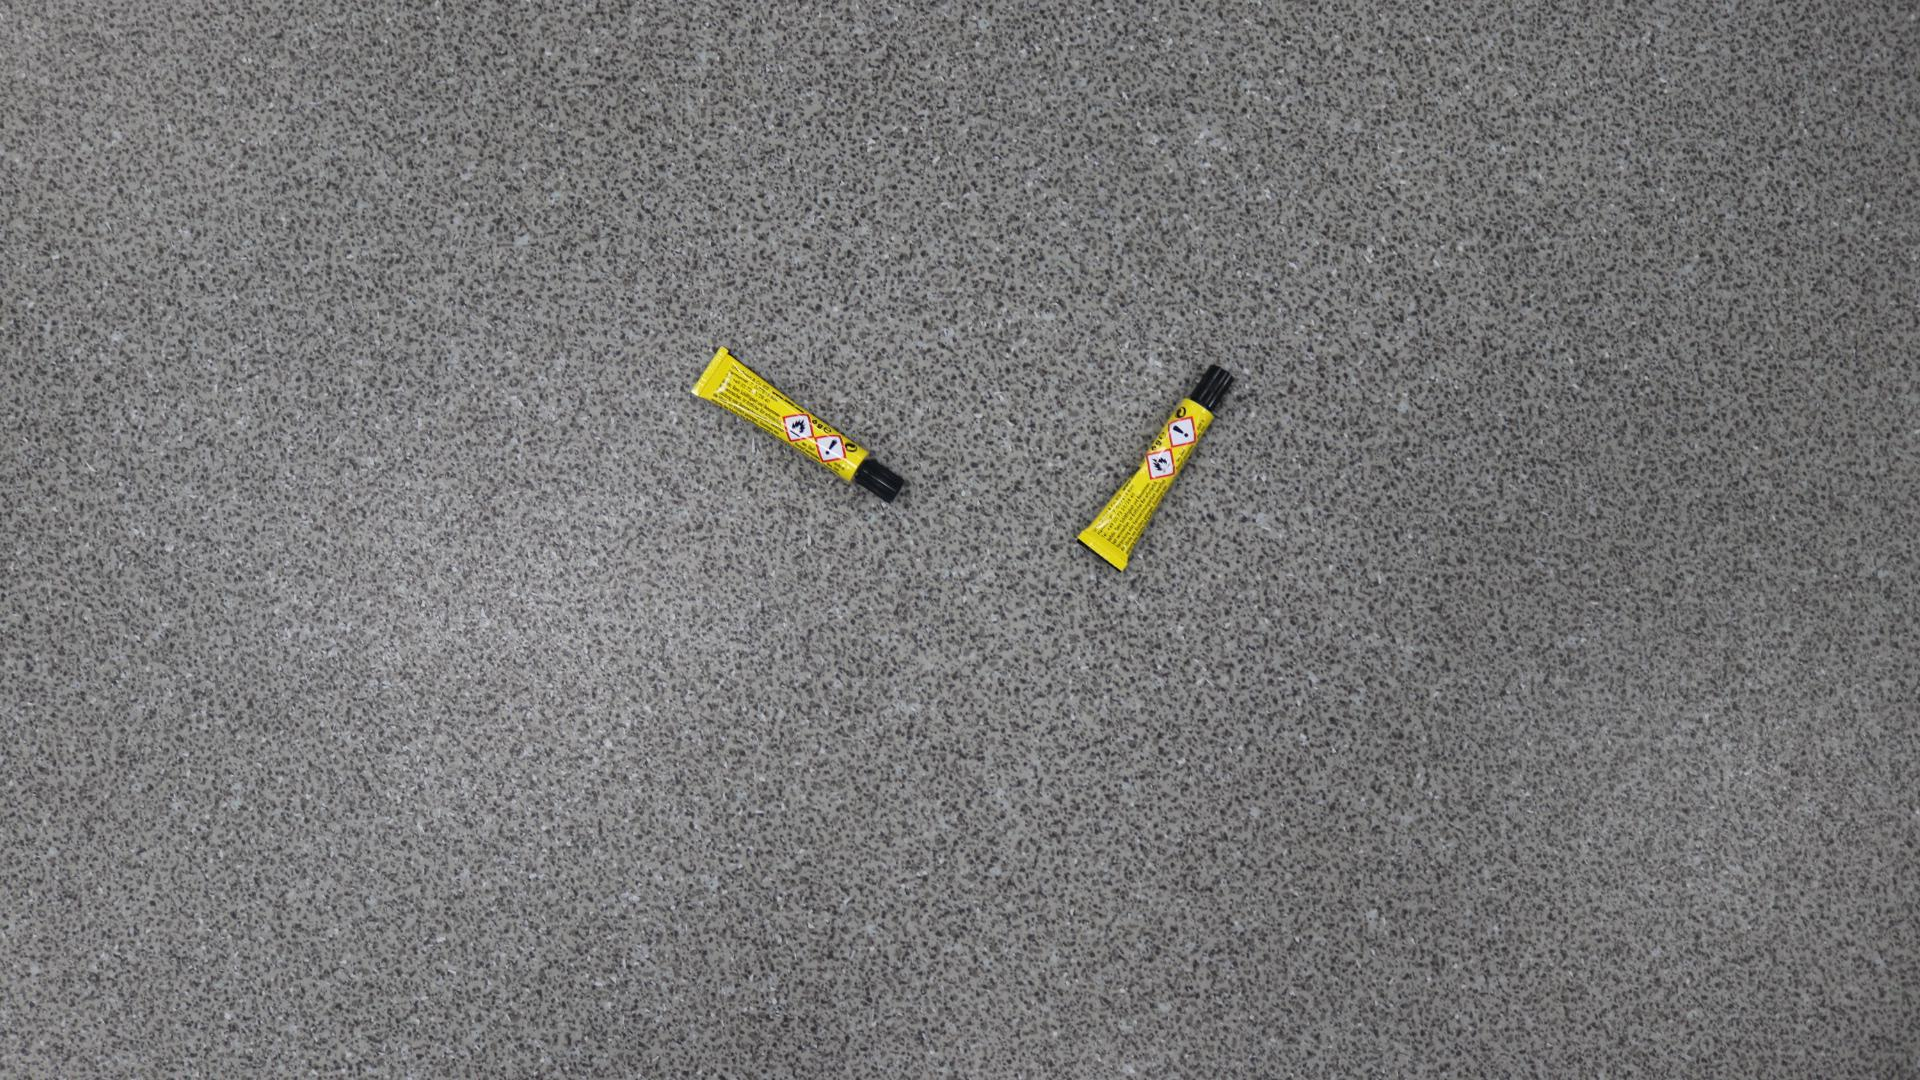Head: (1210, 385, 1214, 389), (879, 477, 883, 481)
Tail: (1100, 549, 1104, 554), (707, 371, 711, 374)
Tube: (692, 346, 905, 504), (1076, 364, 1235, 572)
